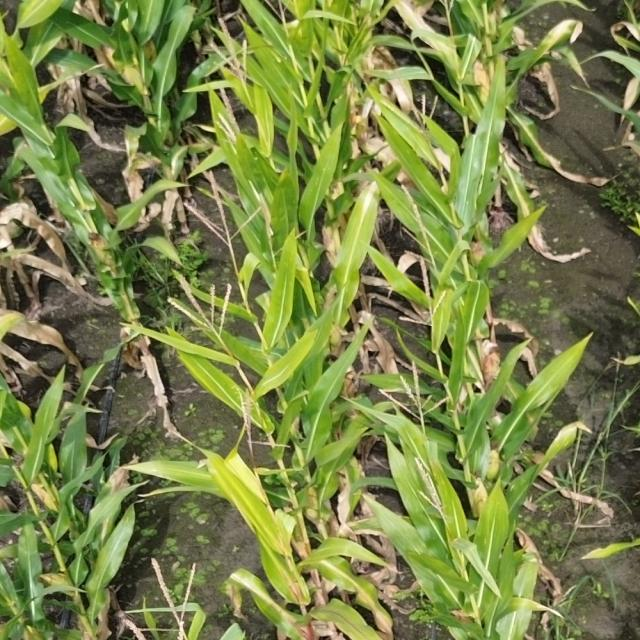northern-leaf-blight: (240, 579, 304, 632), (341, 579, 400, 625), (359, 183, 384, 227), (542, 22, 578, 52), (274, 569, 304, 598)
